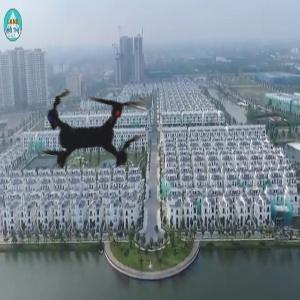drone: (4, 40, 182, 218)
